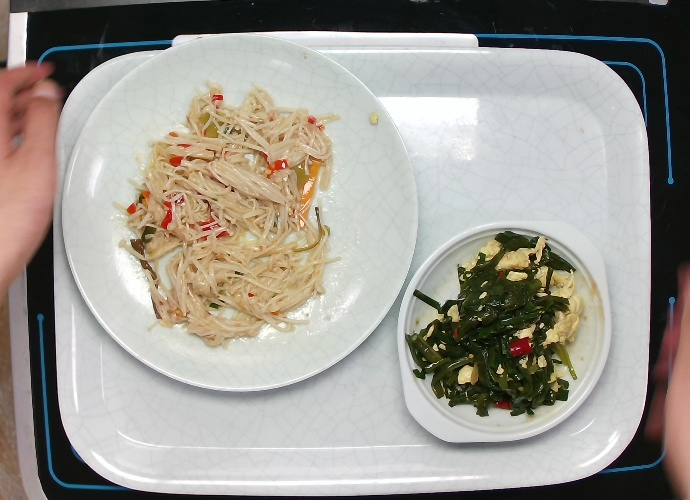JYsf-Da_Yuan_Pan: (60, 32, 420, 394)
JYsf-Shuang_Er_Pan: (395, 218, 613, 445)
